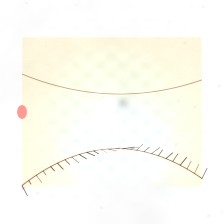hemorrhage_spot: (95, 55, 194, 134)
